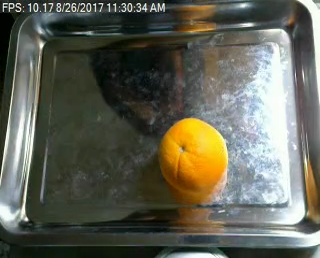Orange: (159, 117, 229, 196)
